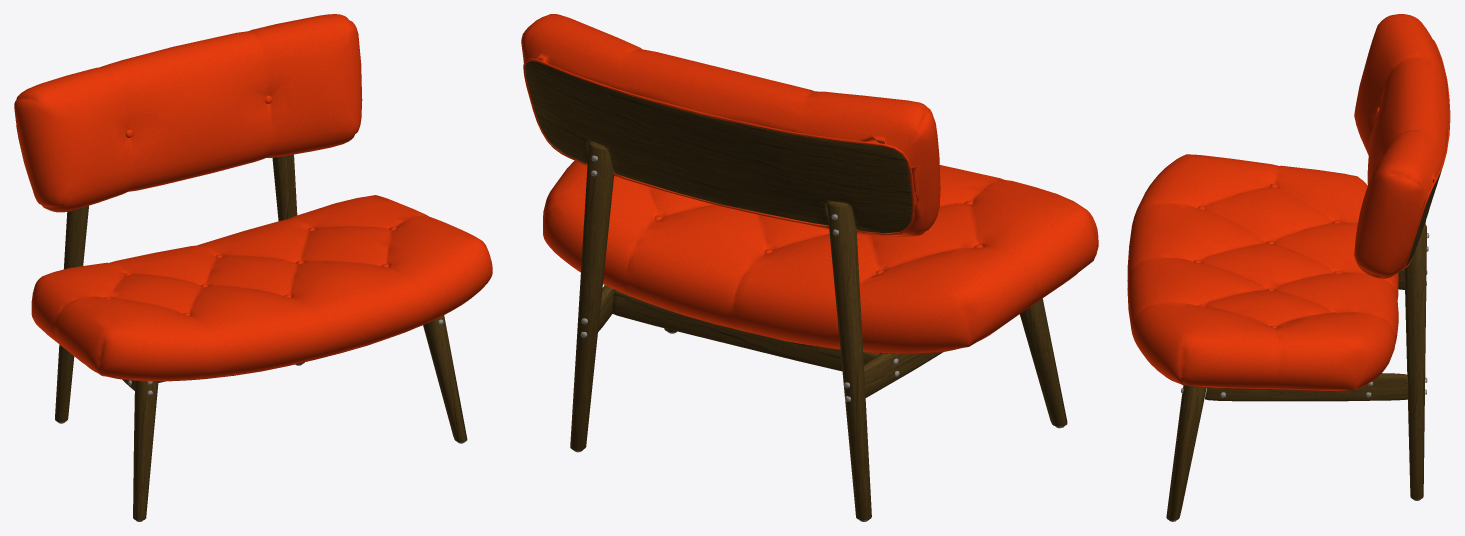
File: SheenChair.glb
3 renders of one model, left to right at view 1: azimuth 30°, elevation 25°; view 2: azimuth 150°, elevation 25°; view 3: azimuth 270°, elevation 25°, orthographic. The views are drawn at different scales.
Parts seen in each view (by area): view 1: SheenChair_fabric, SheenChair_wood; view 2: SheenChair_fabric, SheenChair_wood; view 3: SheenChair_fabric, SheenChair_wood.
Boxes of the visible parts, left/top/right/bottom form: SheenChair_fabric: left=14, top=14, right=492, bottom=381; SheenChair_wood: left=55, top=154, right=467, bottom=520; SheenChair_fabric: left=521, top=14, right=1098, bottom=354; SheenChair_wood: left=525, top=61, right=1067, bottom=520; SheenChair_fabric: left=1127, top=14, right=1450, bottom=391; SheenChair_wood: left=1166, top=168, right=1442, bottom=520.
Size of the model in its own units: 0.8264 by 0.686 by 0.5702.
Materials: 4 (3 with a texture image).
